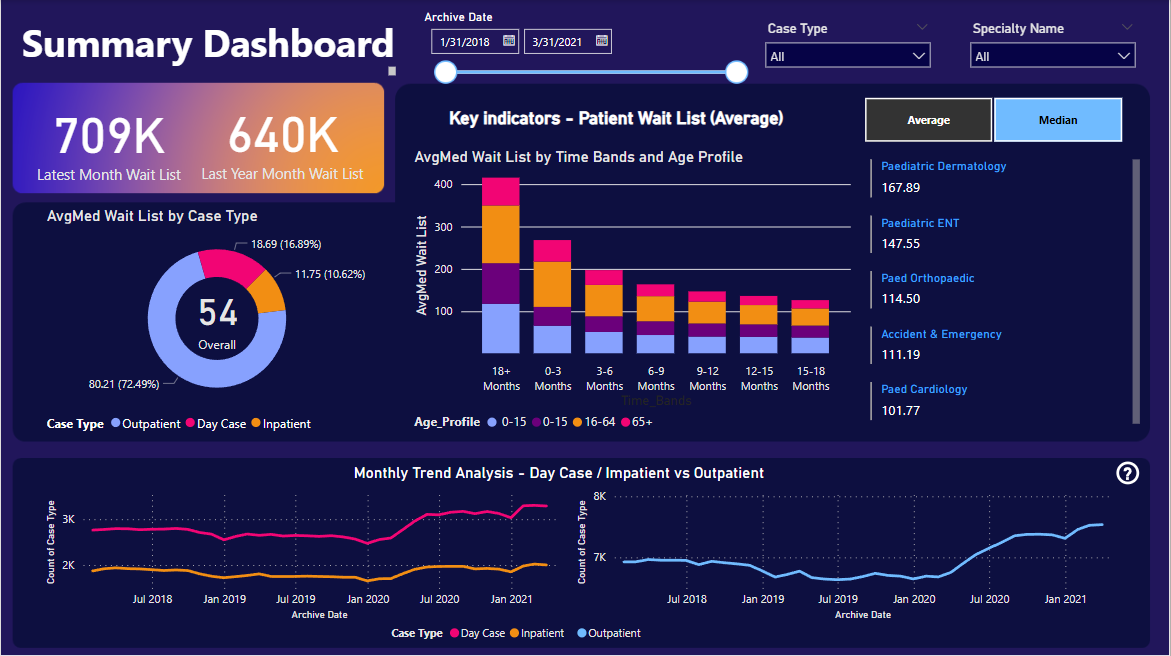

The page's visual inventory and layout, read from the dashboard file:
{"tool":"powerbi","page":{"name":"Summary","canvas":[1280,720],"ordinal":0},"visuals":[{"type":"card","fields":{"Values":["AllData.Latest Month Wait List"]},"box":[16.2,99.8,203.7,105.2],"z":0},{"type":"card","fields":{"Values":["AllData.Last Year Month Wait List"]},"box":[202.4,93.1,211.8,117.4],"z":1000},{"type":"slicer","fields":{"Values":["CalculationMethod.CalcMethod"]},"box":[920.1,99.8,331.9,62.1],"z":2000},{"type":"donutChart","title":"AvgMed Wait List by Case Type","fields":{"Category":["AllData.Case_Type"],"Y":["AllData.Avg/Med Wait List"]},"box":[45.9,225.3,383.1,256.3],"z":3000},{"type":"columnChart","title":"AvgMed Wait List by Time Bands and Age Profile","fields":{"Series":["AllData.Age_Profile"],"Y":["AllData.AvgMed Wait List"],"Category":["AllData.Time_Bands"]},"box":[447.9,161.9,488.4,319.7],"z":4000},{"type":"multiRowCard","fields":{"Values":["AllDatas.AvgMed Wait List","AllDatas.Specialty_Name"]},"box":[947.1,170,304.9,311.6],"z":5000},{"type":"card","fields":{"Values":["AllDatas.NoDataLeft"]},"box":[140.3,578.8,373.7,64.8],"z":6000},{"type":"card","fields":{"Values":["AllDatas.NoDataRight"]},"box":[742,569.3,373.7,64.8],"z":7000},{"type":"lineChart","title":"Count of Case Type by Archive Date and Case Type","fields":{"Y":["CountNonNull(AllDatas.Case_Type)"],"Category":["AllDatas.Archive_Date"],"Series":["AllDatas.Case_Type"]},"box":[43.2,530.2,582.8,182.1],"z":8000},{"type":"lineChart","title":"Count of Case Type by Archive Date and Case Type","fields":{"Y":["CountNonNull(AllDatas.Case_Type)"],"Category":["AllDatas.Archive_Date"],"Series":["AllDatas.Case_Type"]},"box":[626,530.2,609.8,182.1],"z":9000},{"type":"slicer","title":"Archive Date","fields":{"Values":["AllDatas.Archive_Date"]},"box":[458.7,10.8,368.3,82.3],"z":10000},{"type":"slicer","fields":{"Values":["AllDatas.Case_Type"]},"box":[827.5,17.5,201,62.1],"z":11000},{"type":"textbox","title":"Summary Dashboard","box":[16.2,17.5,420.9,70.2],"z":12000},{"type":"card","fields":{"Values":["AllDatas.AvgMed Wait List"]},"box":[109.3,280.6,255,132.2],"z":13000},{"type":"card","fields":{"Values":["AllDatas.KeyIndicator"]},"box":[410.1,97.1,526.1,64.8],"z":14000},{"type":"textbox","title":"Monthly Trend Analysis - Day Case / Impatient vs Outpatient","box":[325.1,508.6,573.4,21.6],"z":15000},{"type":"slicer","fields":{"Values":["AllDatas.Specialty_Name"]},"box":[1050.9,17.5,201,62.1],"z":16000},{"type":"actionButton","box":[1217.6,497.1,34,42.2],"z":17000}]}

Visuals, with their boxes in screenshot pixels (x1, y1, x2, y2), scaled from the page's 1280x720 canvas onto the 1171x656 screenshot:
card - AllData.Latest Month Wait List: [left=15, top=91, right=201, bottom=187]
card - AllData.Last Year Month Wait List: [left=185, top=85, right=379, bottom=192]
slicer - CalculationMethod.CalcMethod: [left=842, top=91, right=1145, bottom=148]
"AvgMed Wait List by Case Type" donutChart: [left=42, top=205, right=392, bottom=439]
"AvgMed Wait List by Time Bands and Age Profile" columnChart: [left=410, top=148, right=857, bottom=439]
multiRowCard - AllDatas.AvgMed Wait List x AllDatas.Specialty_Name: [left=866, top=155, right=1145, bottom=439]
card - AllDatas.NoDataLeft: [left=128, top=527, right=470, bottom=586]
card - AllDatas.NoDataRight: [left=679, top=519, right=1021, bottom=578]
"Count of Case Type by Archive Date and Case Type" lineChart: [left=40, top=483, right=573, bottom=649]
"Count of Case Type by Archive Date and Case Type" lineChart: [left=573, top=483, right=1131, bottom=649]
"Archive Date" slicer: [left=420, top=10, right=757, bottom=85]
slicer - AllDatas.Case_Type: [left=757, top=16, right=941, bottom=73]
"Summary Dashboard" textbox: [left=15, top=16, right=400, bottom=80]
card - AllDatas.AvgMed Wait List: [left=100, top=256, right=333, bottom=376]
card - AllDatas.KeyIndicator: [left=375, top=88, right=856, bottom=148]
"Monthly Trend Analysis - Day Case / Impatient vs Outpatient" textbox: [left=297, top=463, right=822, bottom=483]
slicer - AllDatas.Specialty_Name: [left=961, top=16, right=1145, bottom=73]
actionButton: [left=1114, top=453, right=1145, bottom=491]
